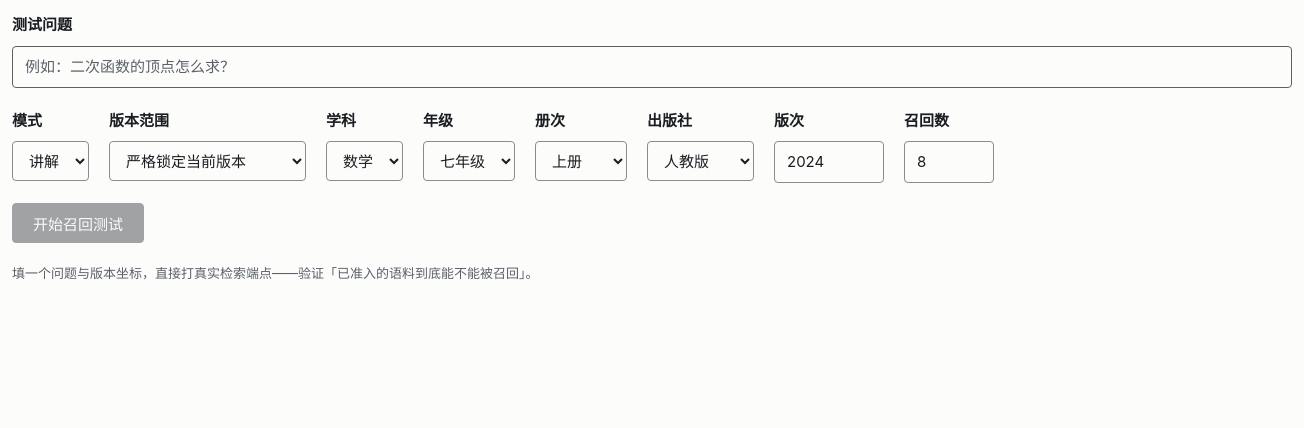
Scenario: 召回测试 › 命中应渲染片段角色与得分
This screenshot has width=1304, height=428.
In the field labelled "测试问题": (652, 66) [12, 46, 1292, 88], type "二次函数"
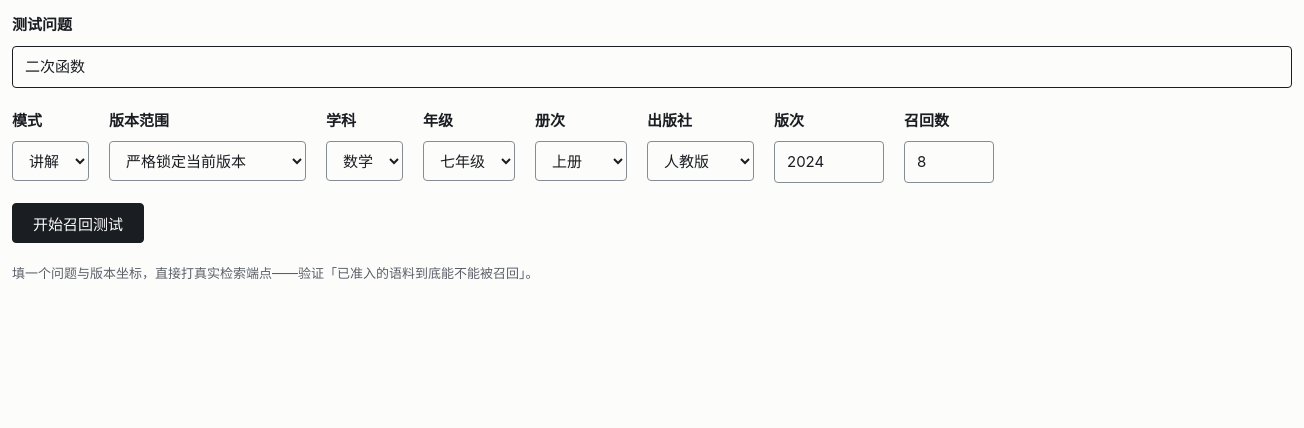
Click the button "开始召回测试": click(78, 223) [12, 203, 144, 243]
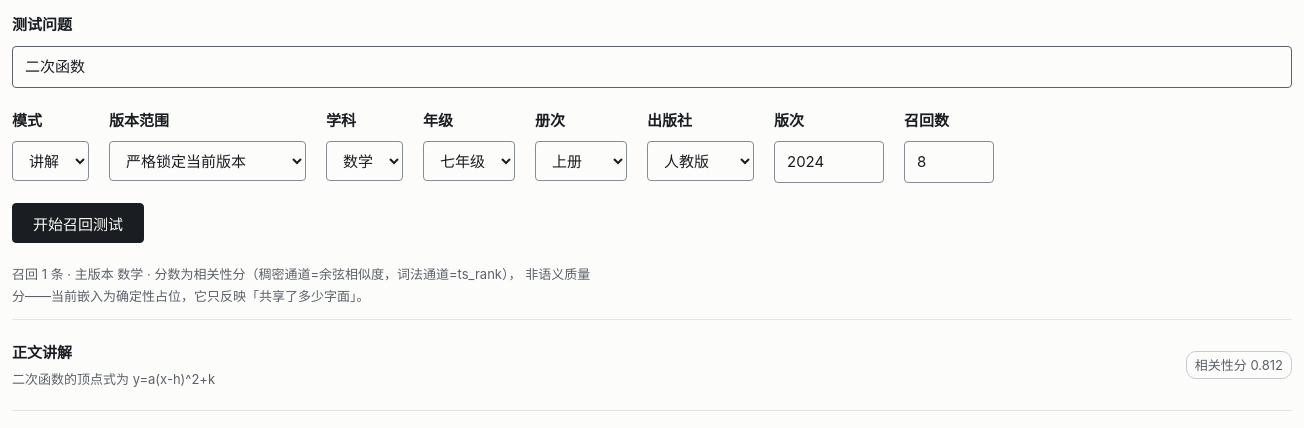
Expected: the text "正文讲解" is shown, [12, 343, 72, 362]
Expected: the text "二次函数的顶点式为 y=a(x-h)^2+k" is shown, [12, 368, 215, 390]
Expected: the text "相关性分 0.812" is shown, [1186, 351, 1292, 379]
